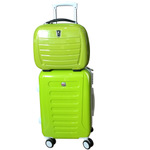suitcase: (31, 1, 98, 150)
